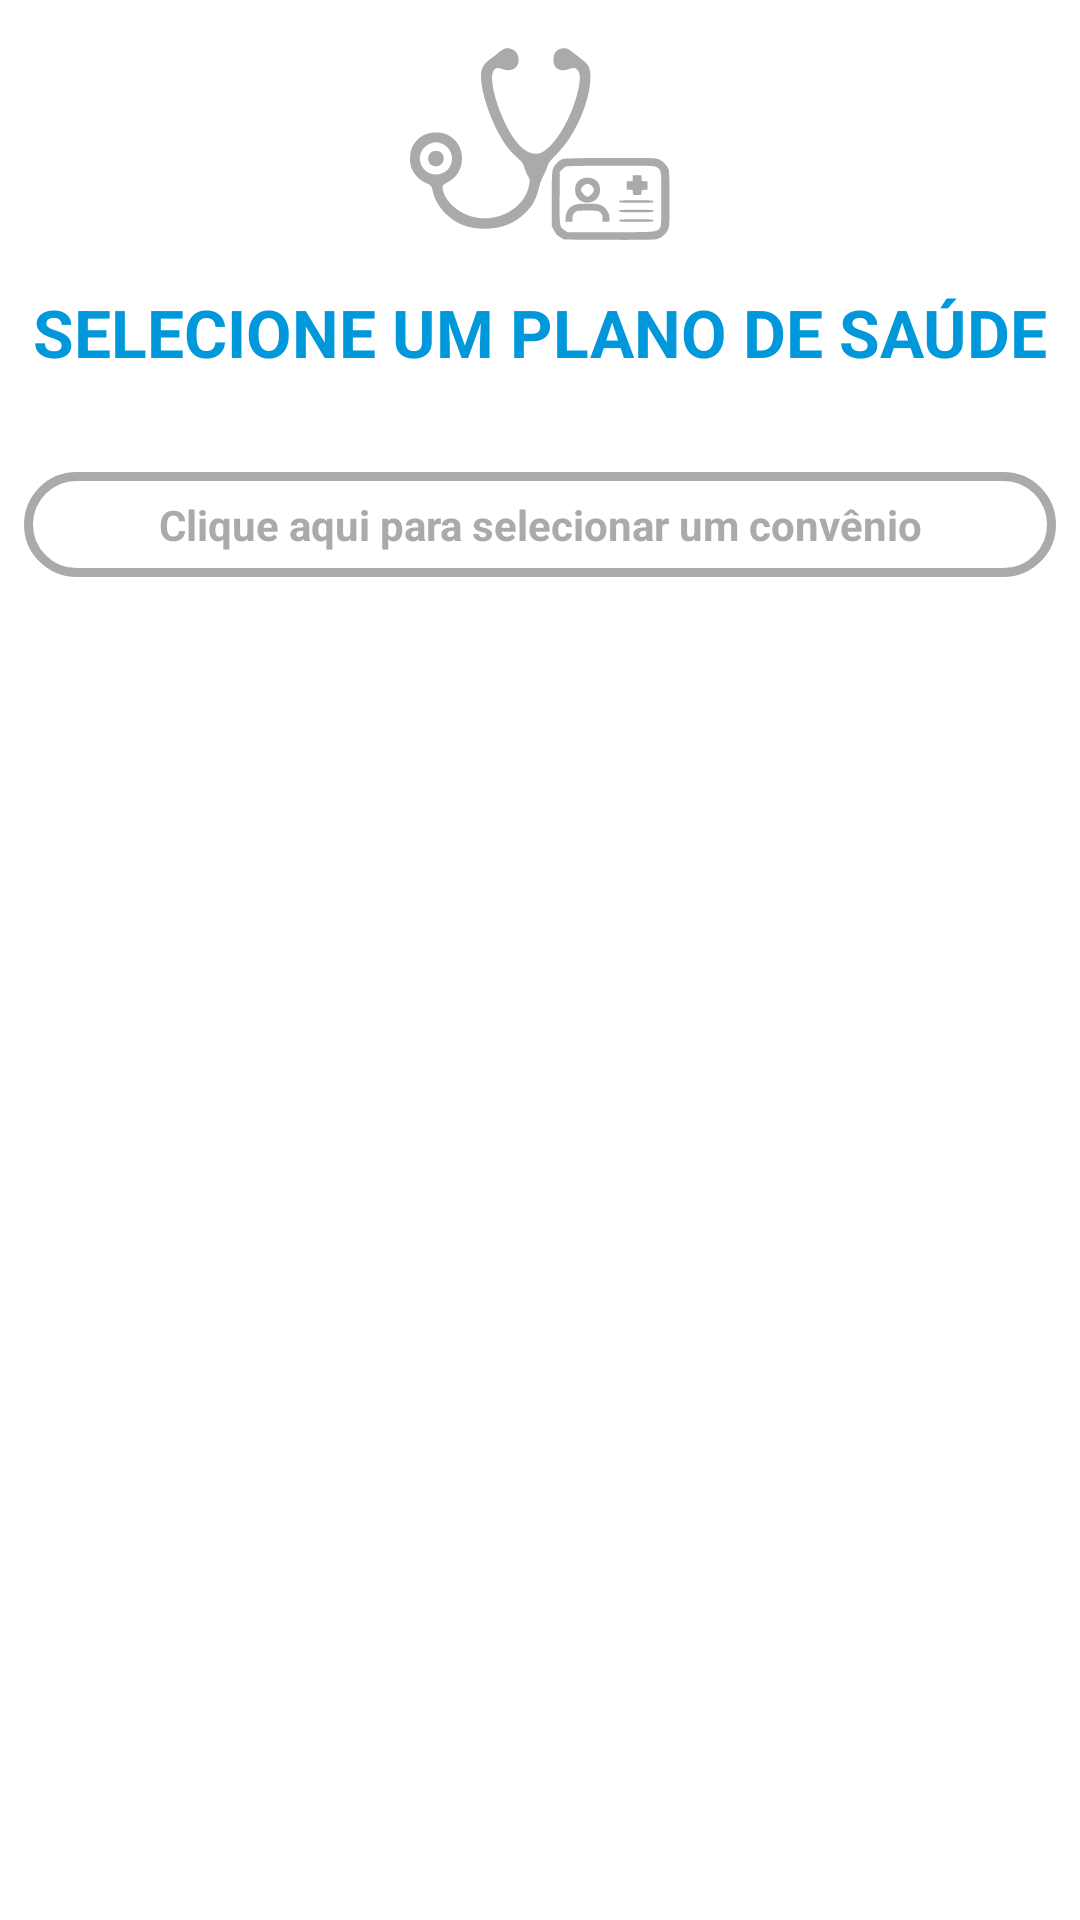

Screen size 1080px x 1920px. Icon name, then its center in pixels as [x,y]:
convenio: [540,144]
